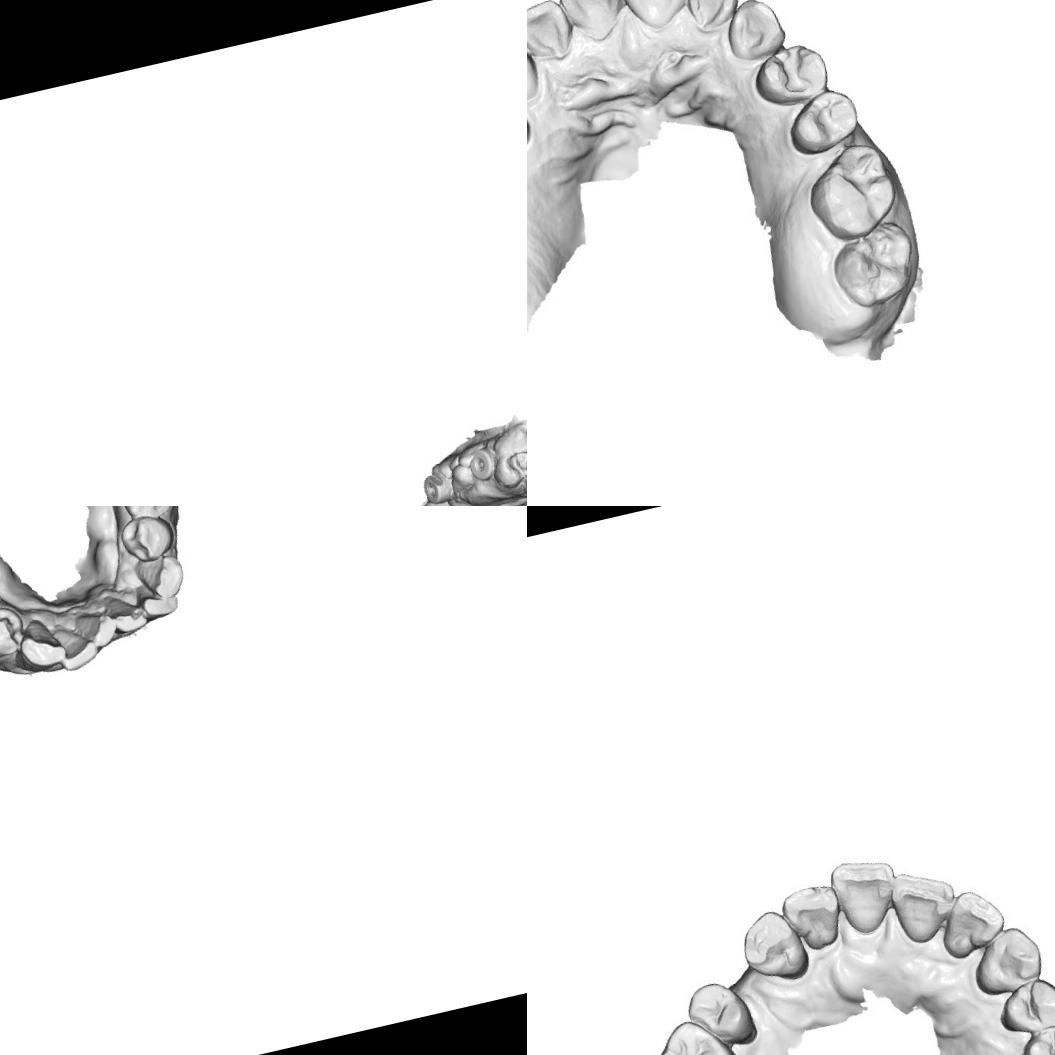canine: (964, 919, 1052, 1001), (734, 905, 812, 990), (717, 0, 789, 67), (12, 612, 70, 676), (131, 550, 190, 607), (527, 37, 545, 109)
implant: (464, 443, 500, 484), (418, 467, 454, 506), (419, 494, 456, 506)
incisor: (824, 849, 907, 940), (883, 862, 963, 950), (776, 878, 847, 958), (934, 882, 1004, 954), (527, 0, 577, 65), (50, 620, 102, 676), (552, 0, 627, 37), (616, 0, 693, 34), (72, 607, 124, 653), (102, 590, 150, 638), (134, 586, 182, 626), (681, 0, 737, 26)
molar: (797, 135, 910, 249), (829, 221, 923, 312), (643, 1009, 751, 1055)
premolar: (747, 38, 832, 114), (782, 88, 863, 158), (685, 975, 758, 1048), (992, 972, 1055, 1038), (114, 506, 180, 567), (0, 602, 31, 665), (1009, 1014, 1055, 1055), (116, 506, 179, 524)
